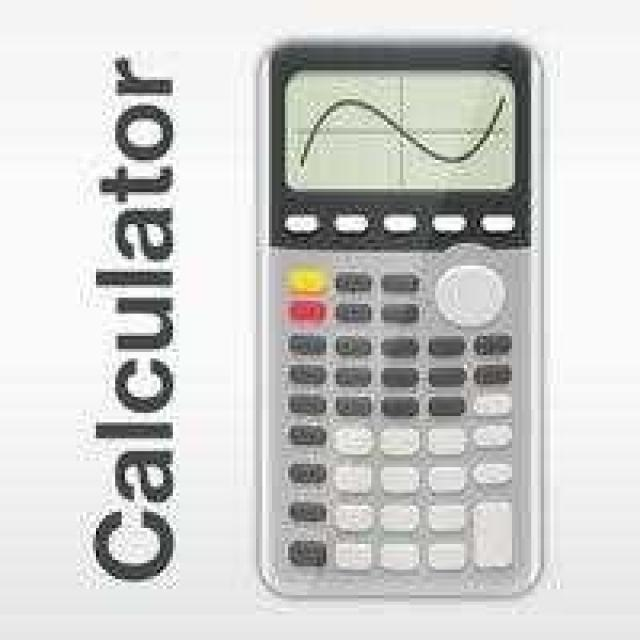Calculator: (253, 36, 547, 598)
